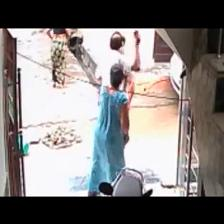person: (88, 64, 128, 196), (47, 29, 69, 87)
